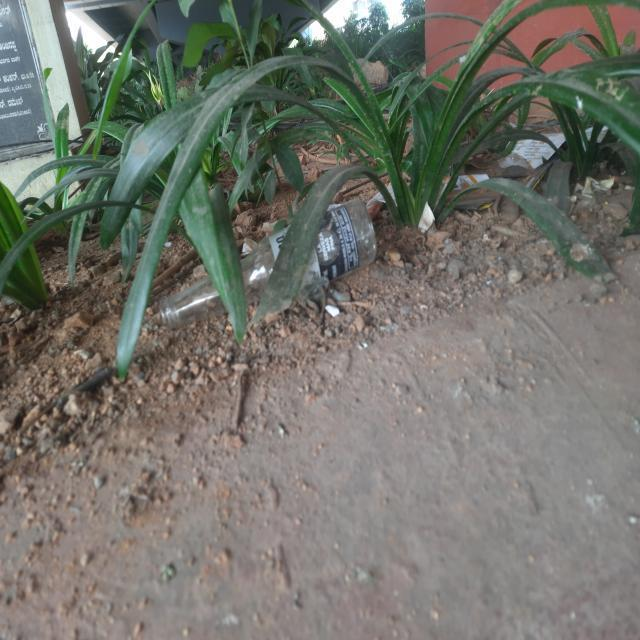Garbage: (0, 47, 561, 446)
Glass_bottle: (301, 200, 376, 293), (241, 230, 288, 305), (160, 278, 225, 328)
